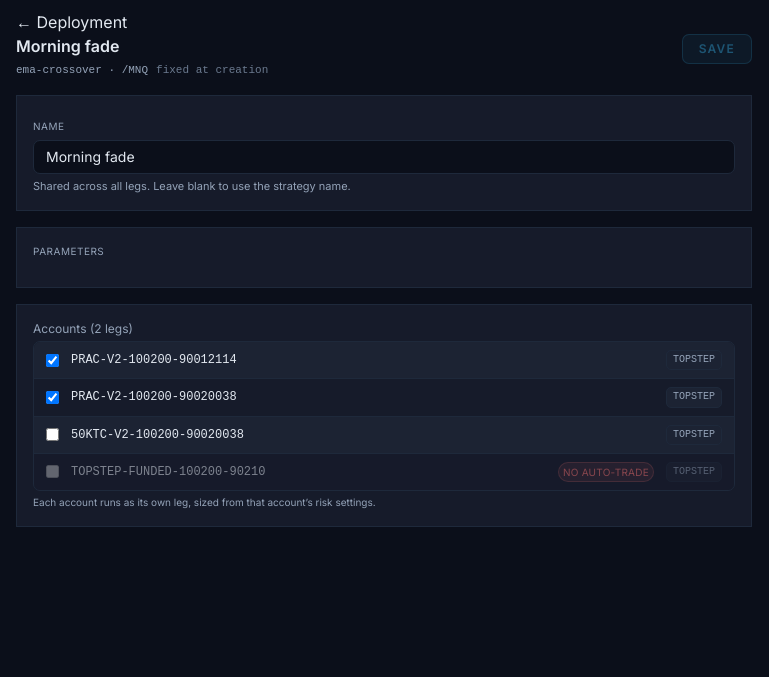
it: DeploymentEditor — the partialConflict 409 › renders the blocked accounts and stops before touching a leg
Click the checkbox labelled "PRAC-V2-100200-90020038 TOPSTEP".
click(52, 397)  # box [46,391,59,404]
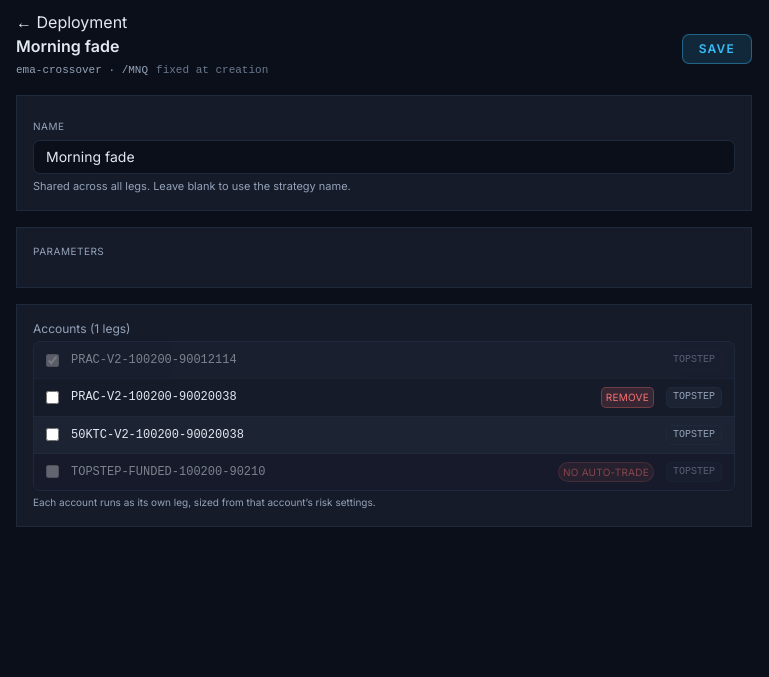
Click the button "Save".
click(717, 49)  # box [682,34,752,64]
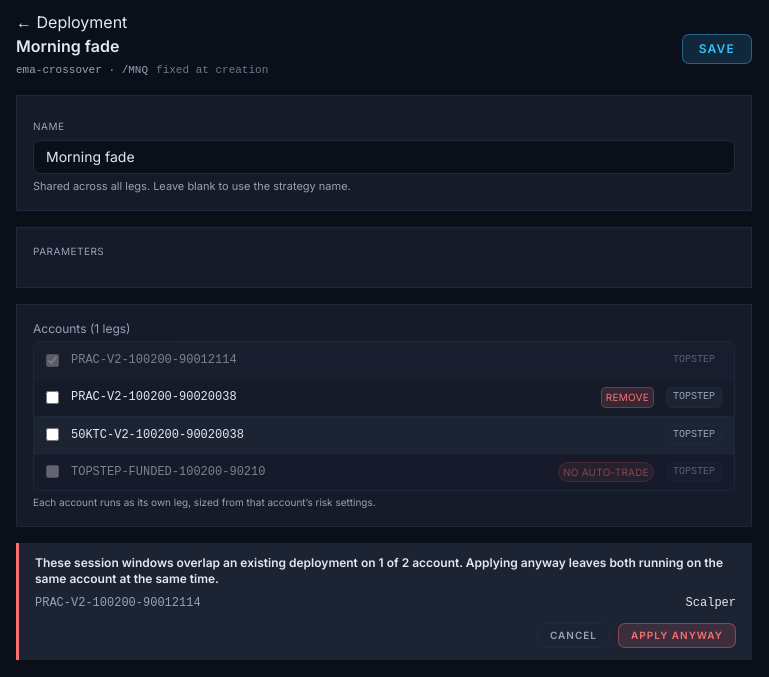
Expected: the text "PRAC-V2-100200-90012114" is shown, [71,353,237,367]
Result: the text "1 of 2 account" is shown at [35,555,723,586]
Result: the text "Scalper" is shown at [686,595,736,611]
